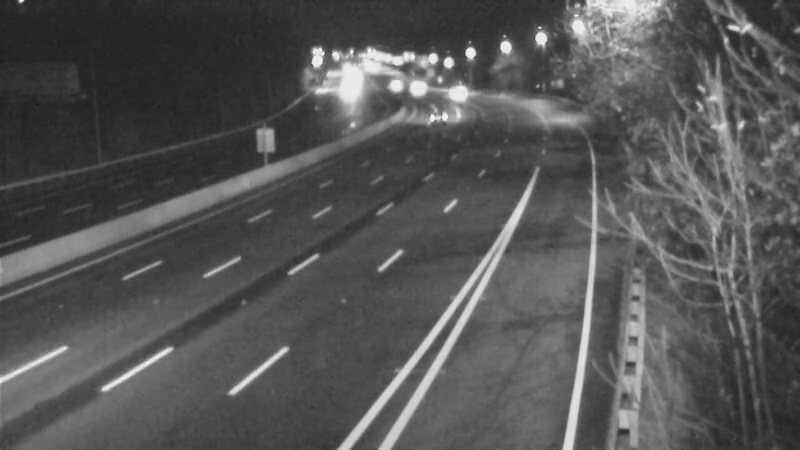vehicle: (366, 60, 416, 110), (388, 63, 438, 113), (434, 67, 484, 117), (410, 93, 460, 143), (326, 66, 376, 116)
